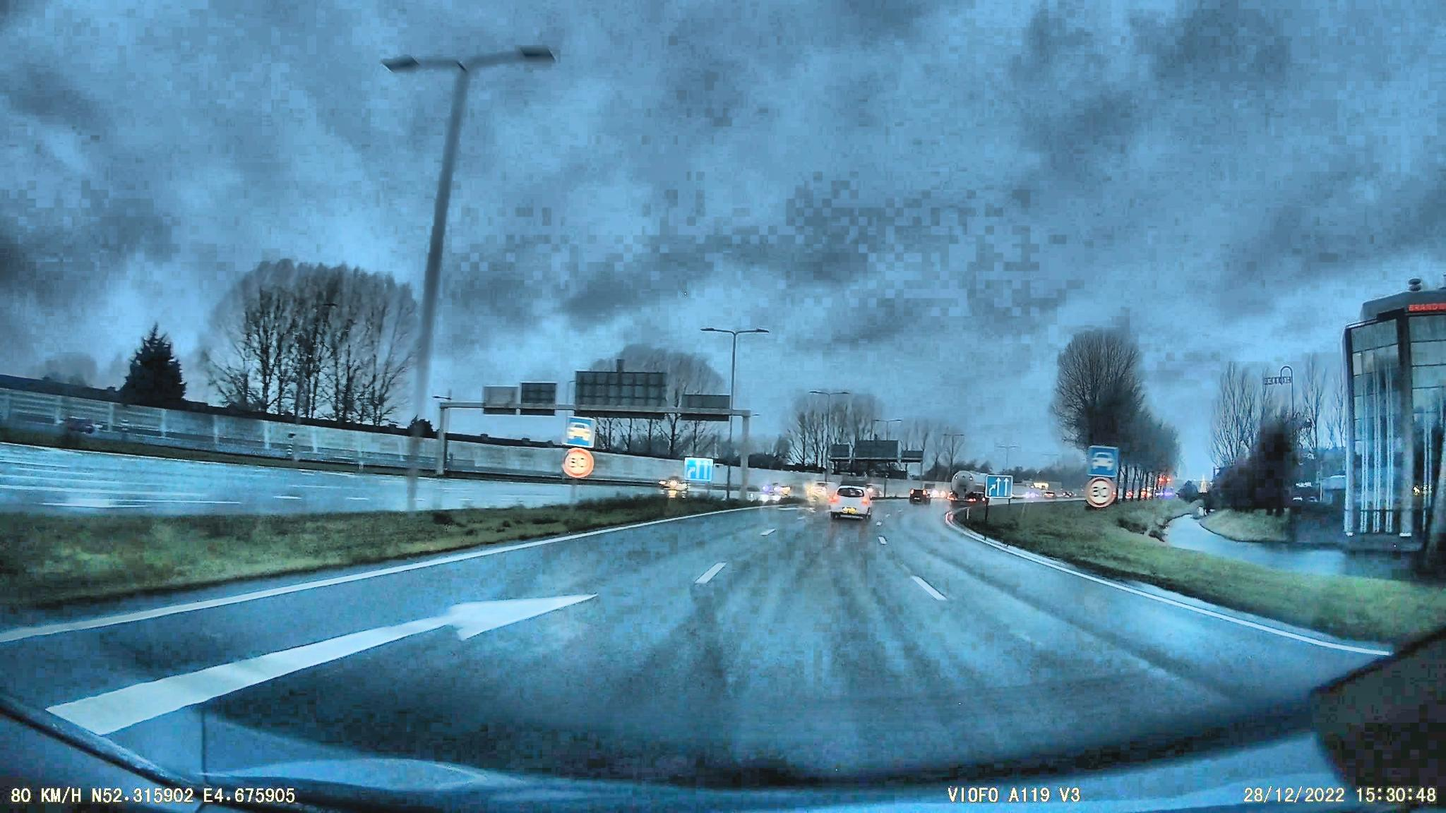Roads: (0, 499, 1425, 813)
